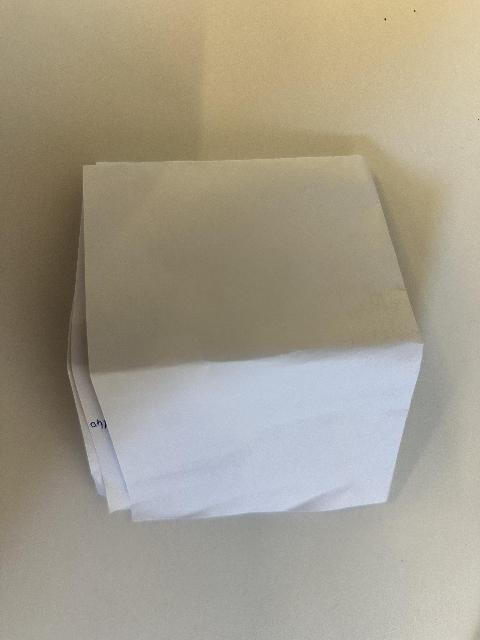Kagit: (71, 157, 425, 521)
